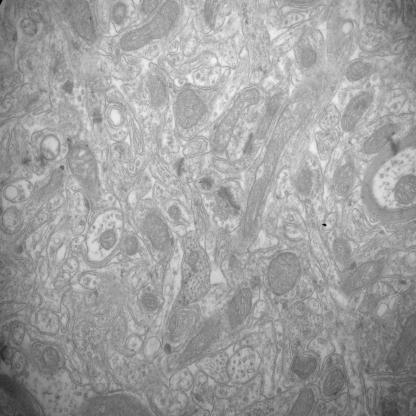mitochondria: (211, 84, 260, 158), (116, 0, 180, 54), (67, 142, 105, 209), (269, 247, 301, 296), (362, 121, 404, 156), (346, 258, 388, 292), (175, 86, 206, 130), (340, 90, 372, 132), (330, 159, 361, 199), (288, 349, 320, 384), (34, 166, 65, 202), (227, 286, 254, 326), (143, 212, 170, 249), (345, 56, 374, 85), (325, 365, 347, 399), (330, 234, 352, 267), (396, 172, 416, 206), (122, 232, 141, 256), (98, 228, 118, 250), (140, 290, 160, 312), (167, 201, 185, 224)
